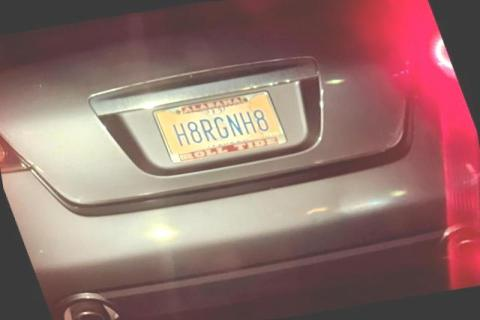LicensePlate: (149, 89, 286, 162)
